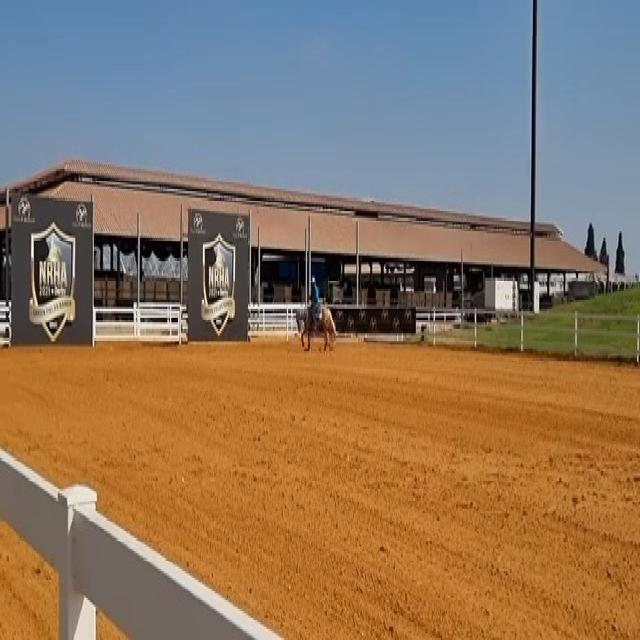horse: (294, 296, 338, 354)
